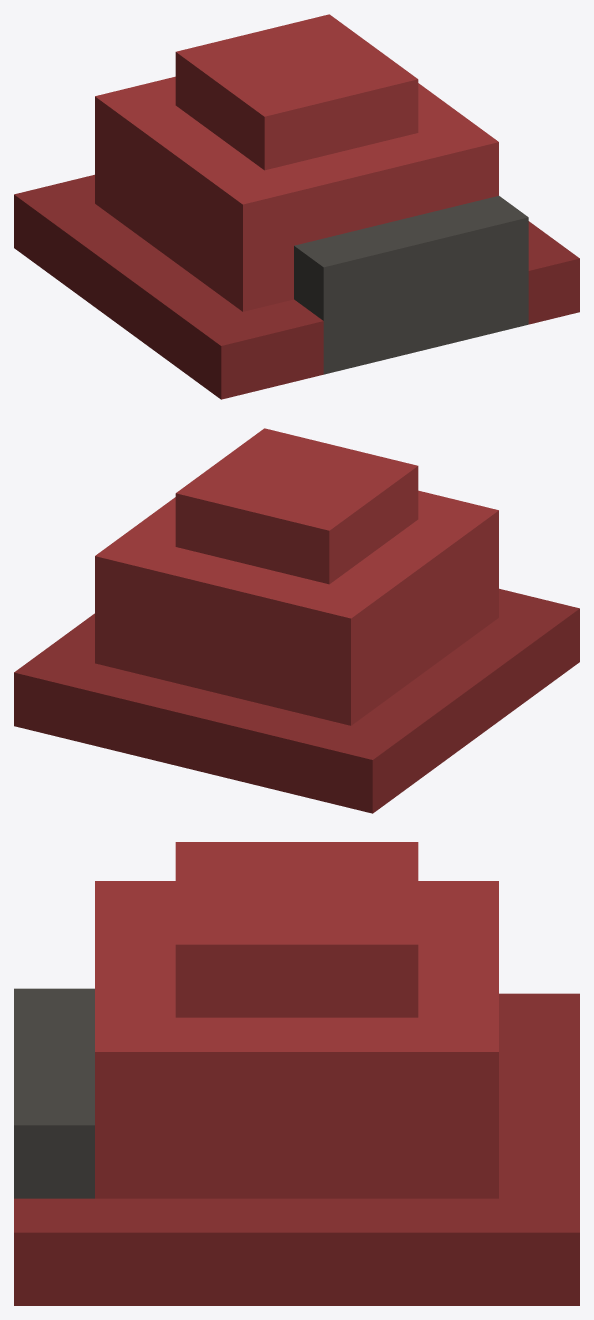
File: legendario_casco_orco_01.glb
3 renders of one model, top to bottom at view 1: azimuth 30°, elevation 25°; view 2: azimuth 150°, elevation 25°; view 3: azimuth 270°, elevation 25°, orthographic. The views are drawn at different scales.
Parts seen in each view (by area): view 1: legendario_casco_orco; view 2: legendario_casco_orco; view 3: legendario_casco_orco.
Boxes of the visible parts, x1,y1,x2,y2 form: legendario_casco_orco: (14, 14, 579, 399); legendario_casco_orco: (14, 428, 579, 813); legendario_casco_orco: (14, 842, 579, 1305).
Size of the model in its own units: 0.5833 by 0.3333 by 0.5833.
